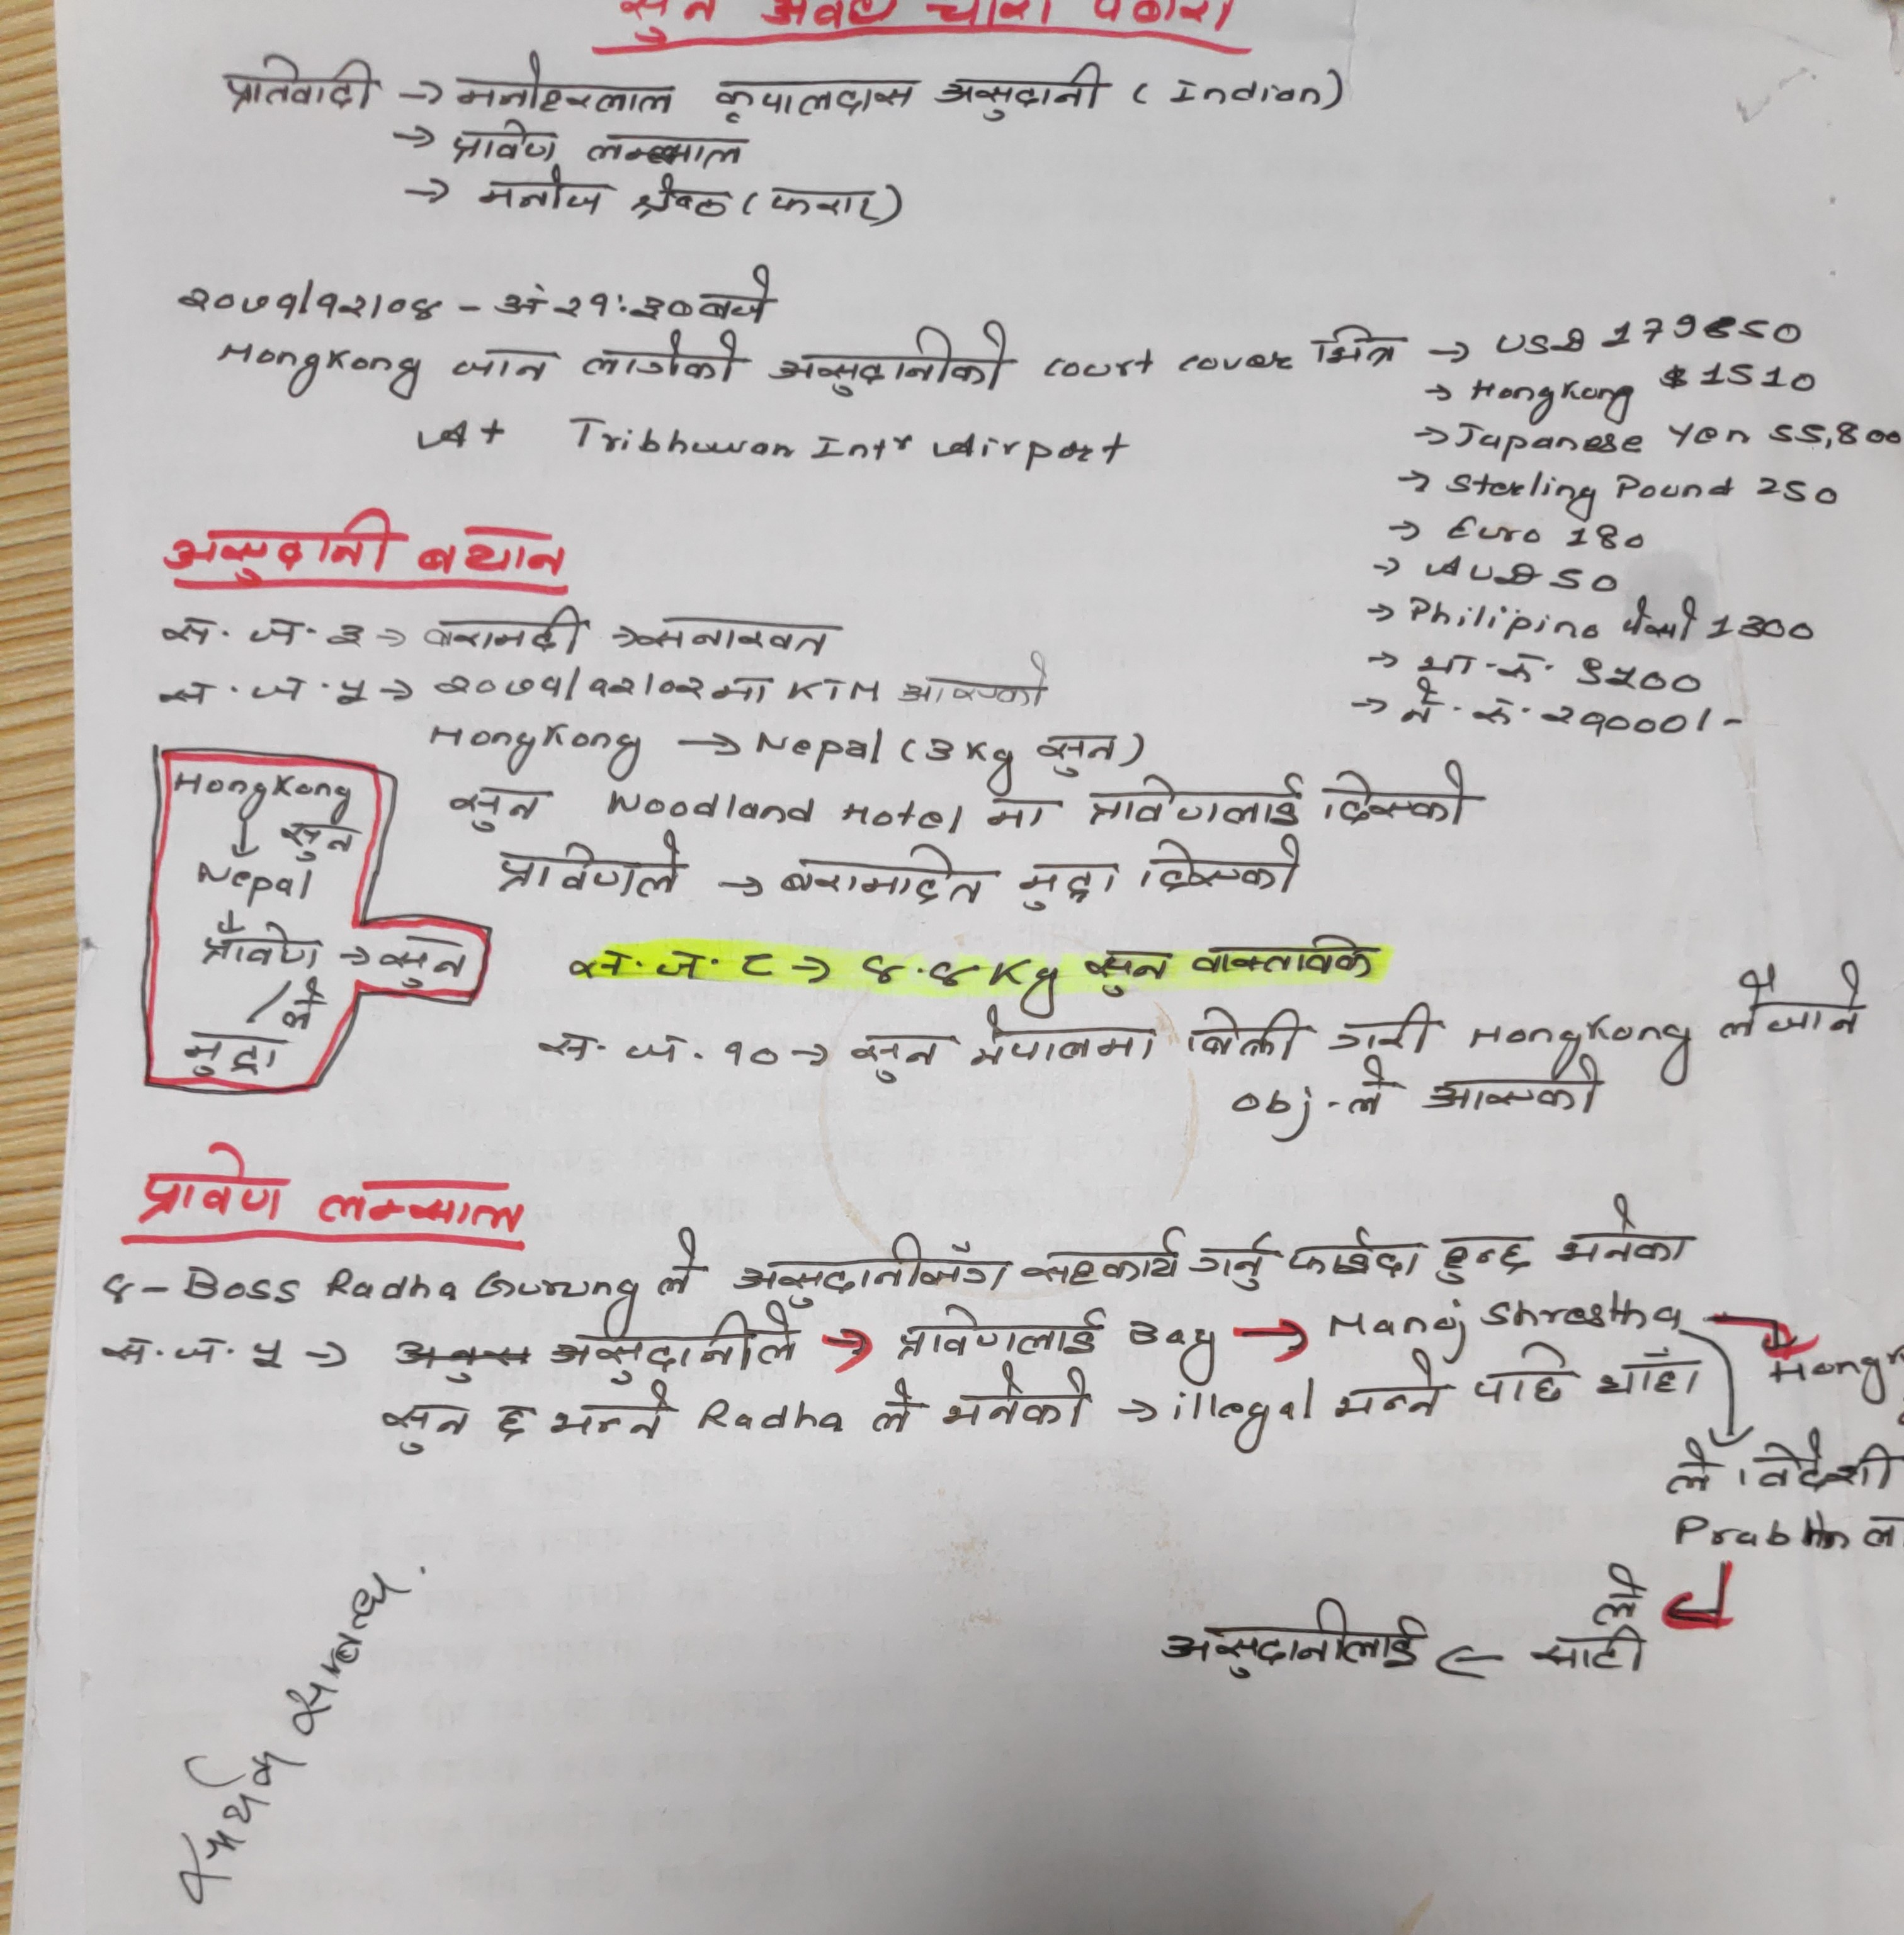text: (1156, 1597, 1426, 1680), (732, 1232, 1011, 1311), (764, 317, 1011, 401), (547, 1302, 799, 1382), (162, 506, 403, 582), (453, 51, 680, 124), (776, 839, 989, 912), (497, 825, 689, 905), (126, 1140, 288, 1229), (1083, 771, 1311, 833), (1316, 755, 1480, 839), (1716, 959, 1876, 1044), (316, 1171, 534, 1234), (968, 999, 1158, 1070), (528, 1030, 781, 1083), (427, 659, 711, 704), (171, 282, 453, 326), (1135, 830, 1306, 901), (567, 934, 778, 990), (1554, 1189, 1697, 1271), (896, 1306, 1105, 1361), (1426, 1058, 1609, 1121), (157, 668, 375, 720), (942, 1360, 1095, 1433), (636, 605, 842, 659), (936, 59, 1105, 124), (1018, 1226, 1187, 1290), (713, 75, 921, 127), (1733, 1431, 1895, 1497), (891, 650, 1055, 715), (577, 326, 750, 387), (160, 608, 370, 657), (221, 52, 378, 117), (1187, 929, 1381, 981), (420, 605, 591, 662), (415, 521, 574, 582), (1332, 1342, 1445, 1426), (96, 1330, 293, 1375), (1282, 1226, 1428, 1283), (582, 127, 755, 173), (549, 1379, 670, 1443), (1463, 1341, 1580, 1407), (1184, 1002, 1302, 1067), (1323, 997, 1445, 1056), (1531, 1623, 1655, 1679), (1590, 1348, 1707, 1405), (1538, 701, 1691, 744), (1011, 858, 1123, 917), (478, 167, 607, 218), (1184, 1229, 1278, 1297), (551, 284, 696, 326), (1571, 655, 1709, 699), (448, 779, 551, 837), (1431, 1231, 1536, 1287), (849, 1032, 949, 1088), (765, 178, 882, 225), (378, 1400, 471, 1459), (631, 169, 732, 223), (450, 119, 563, 166), (1078, 945, 1172, 999), (697, 260, 778, 323), (445, 345, 563, 387), (1304, 323, 1404, 370), (1032, 730, 1125, 781), (1662, 1433, 1721, 1499), (867, 1374, 921, 1443), (983, 786, 1055, 832), (656, 1227, 703, 1295), (710, 671, 776, 708), (490, 282, 551, 321), (493, 1396, 534, 1445)
